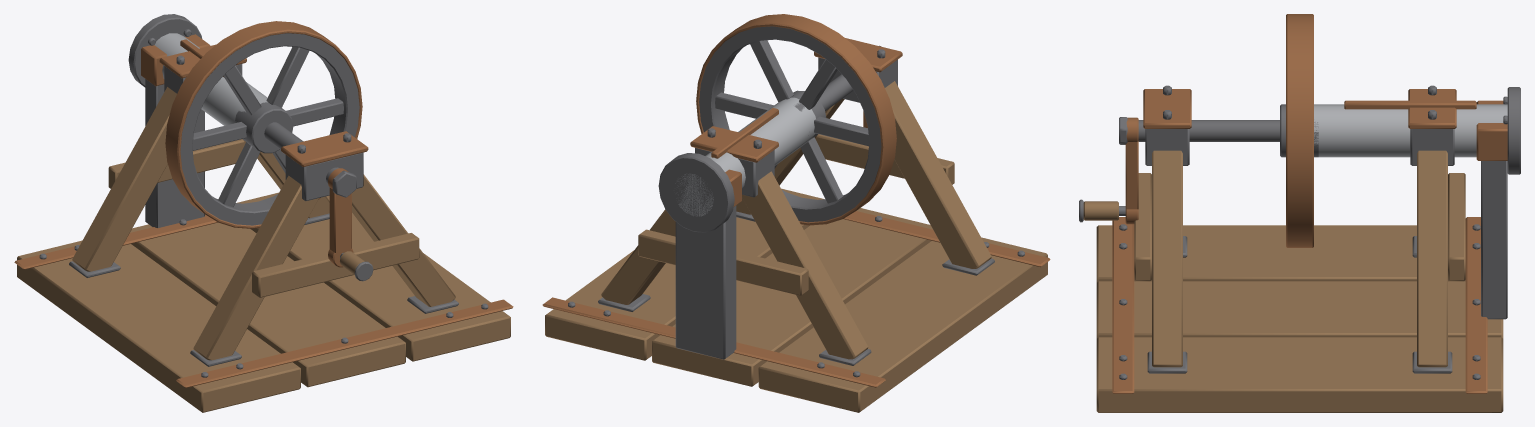
The model's file is feTorqueCrank.fbx.
3 renders of one model, left to right at view 1: azimuth 30°, elevation 25°; view 2: azimuth 150°, elevation 25°; view 3: azimuth 270°, elevation 25°, orthographic. The views are drawn at different scales.
Visible parts, largest first — view 1: feTorqueCrank_Base, feCrank_Rotor; view 2: feTorqueCrank_Base, feCrank_Rotor; view 3: feTorqueCrank_Base, feCrank_Rotor.
Part boxes in pixels (<box>): feTorqueCrank_Base: <box>14,34,513,412</box>; feCrank_Rotor: <box>128,14,373,281</box>; feTorqueCrank_Base: <box>542,38,1050,412</box>; feCrank_Rotor: <box>658,14,896,232</box>; feTorqueCrank_Base: <box>1096,85,1507,412</box>; feCrank_Rotor: <box>1079,14,1520,247</box>.
Size of the model in its own units: 0.94 by 0.765 by 1.
